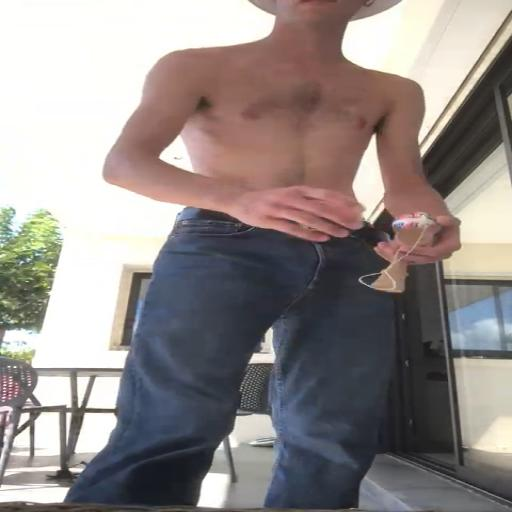kendama_ball: (392, 212, 442, 237)
